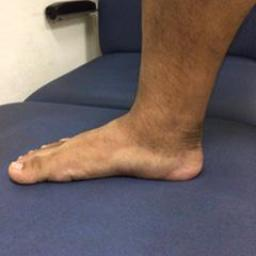Medial View -Right Foot-: (5, 74, 220, 202)
